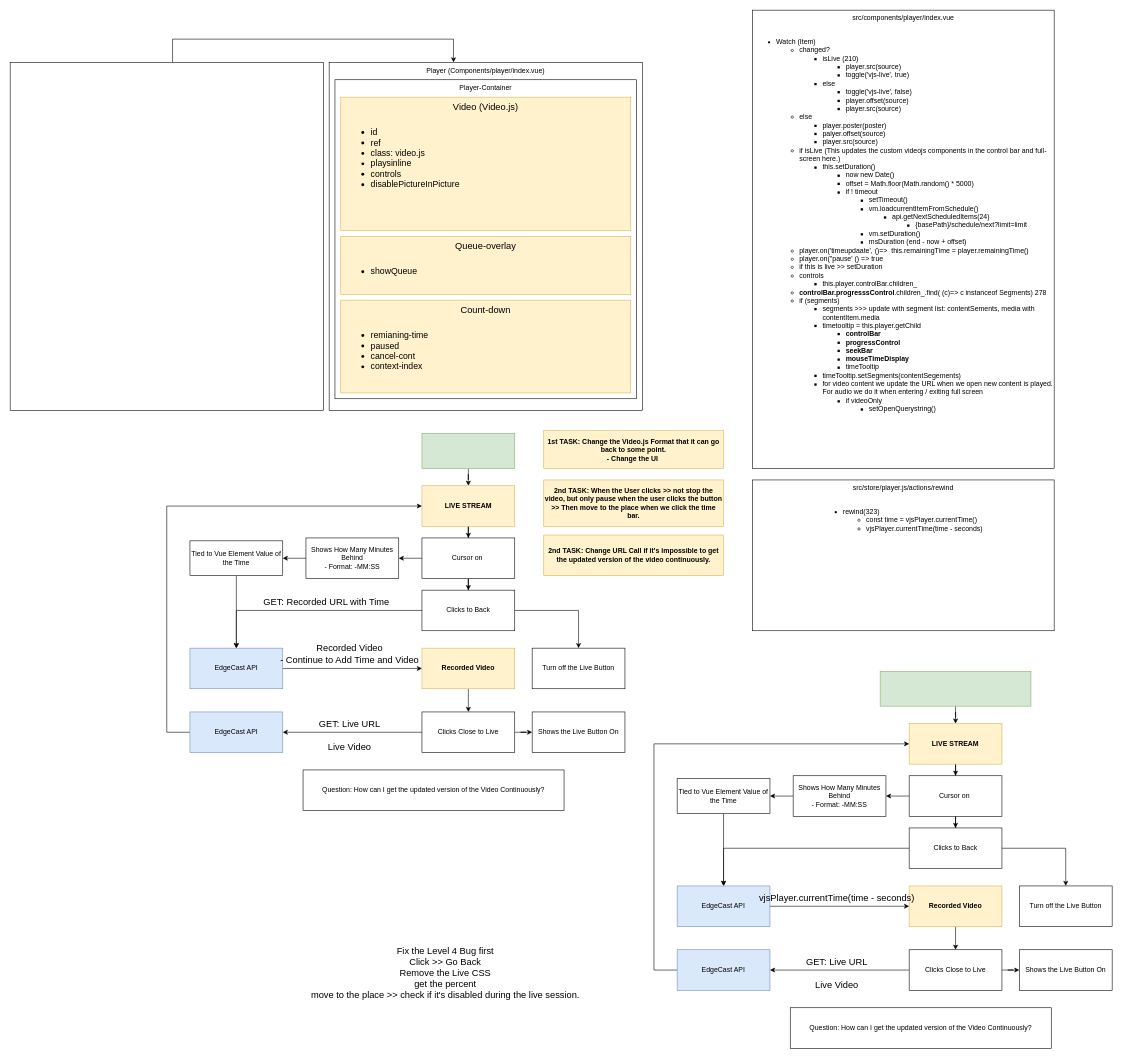
This 1122x1059 diagram has some shape labels left out. Each missing label, with the centre of its shape:
"Rewind Algorithm" belongs at (x=468, y=450).
"Simpler Rewind Algorithm" belongs at (x=955, y=688).
"src/layout/default.vue" belongs at (x=166, y=236).
